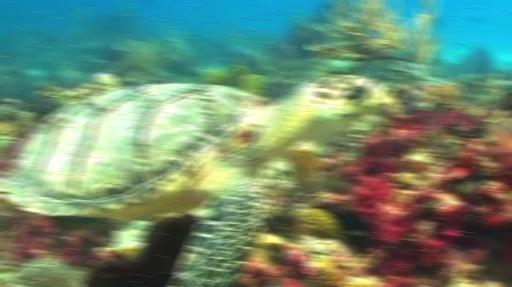Fish: (0, 76, 388, 286)
